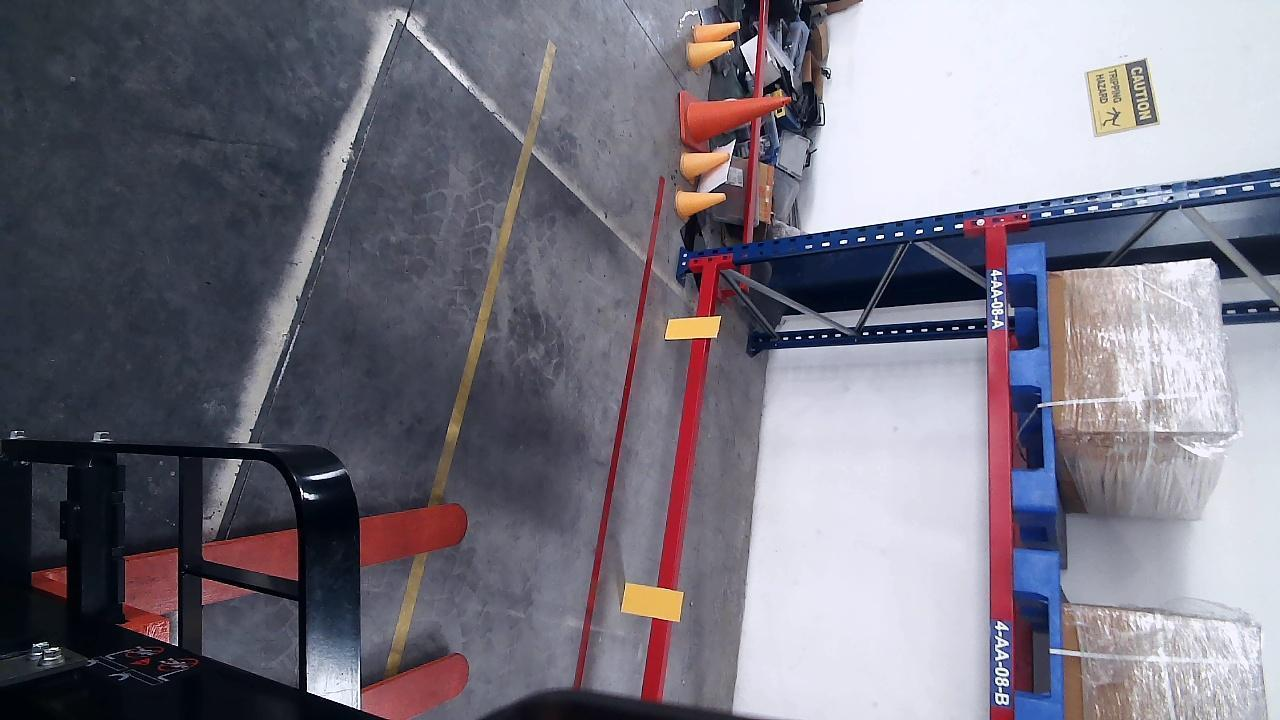red_line: (573, 177, 667, 689)
yellow_line: (426, 39, 561, 506)
